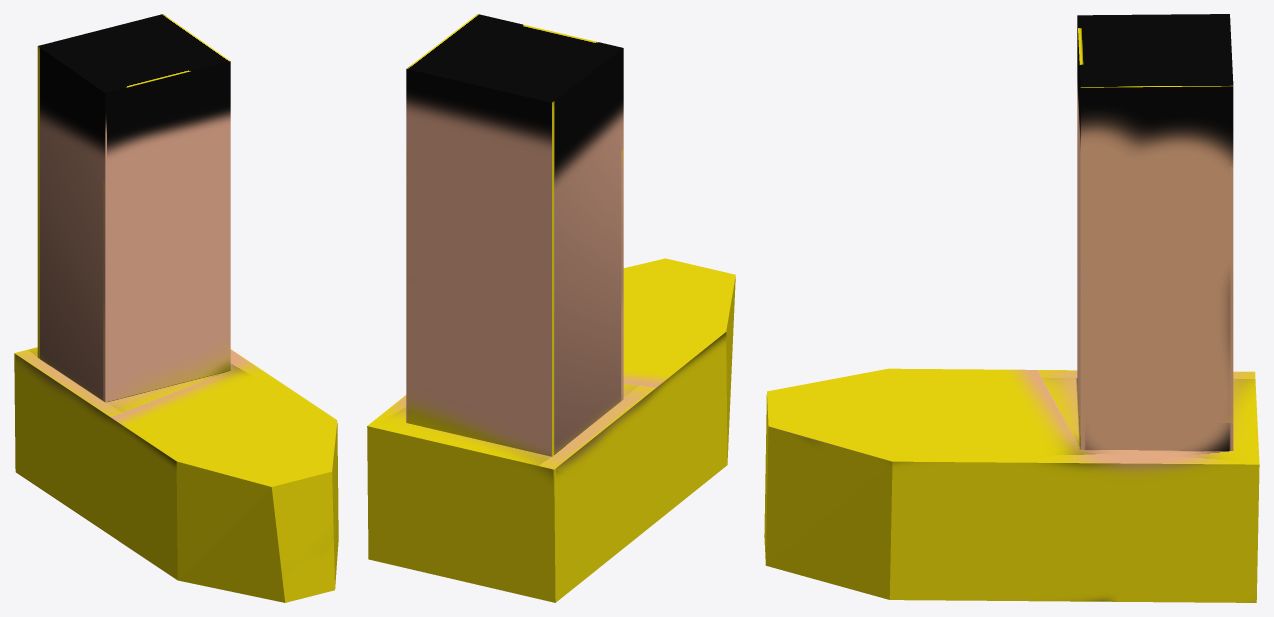
Rendered from HurmanR_feed2.obj.
3 views of the same model, side by side, from view 1: azimuth 30°, elevation 25°; view 2: azimuth 150°, elevation 25°; view 3: azimuth 270°, elevation 25° (orthographic). The views are drawn at different scales.
Visible parts, largest first — view 1: 立方体.009_立方体.012; view 2: 立方体.009_立方体.012; view 3: 立方体.009_立方体.012.
Part boxes in pixels (box(x1,y1,x2,y2)): 立方体.009_立方体.012: box(14, 14, 338, 602); 立方体.009_立方体.012: box(367, 14, 735, 602); 立方体.009_立方体.012: box(764, 14, 1259, 602).
Size of the model in its own units: 0.9288 by 2.27 by 2.02.
Materials: 1 (1 with a texture image).
